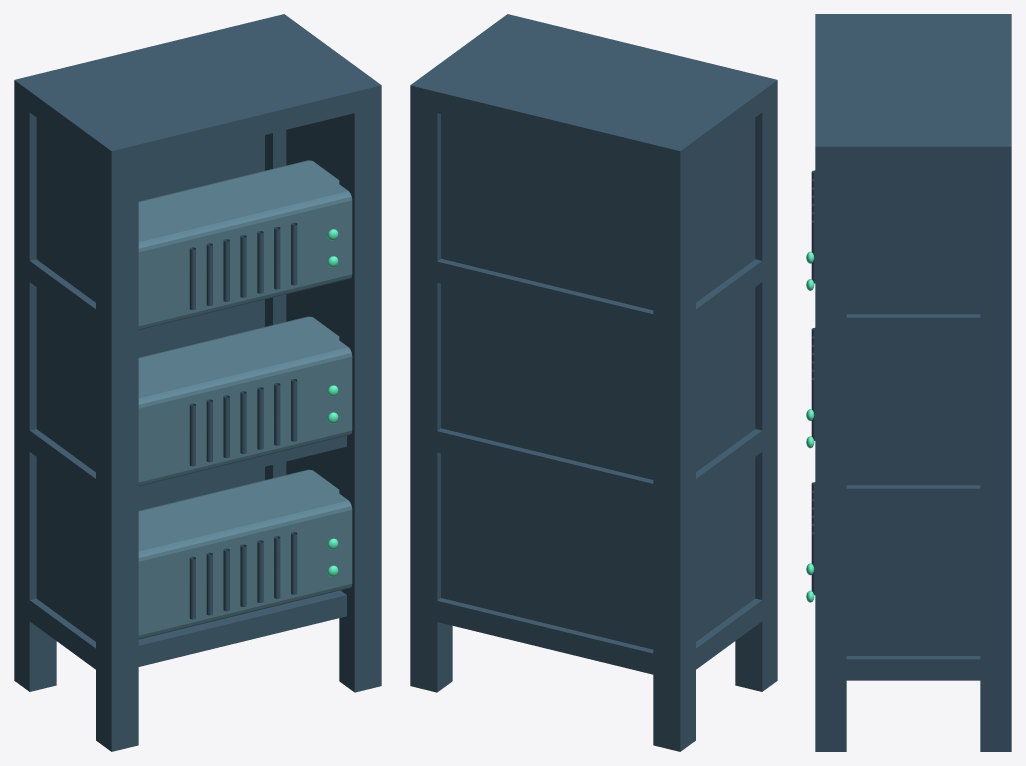
Rendered from server.glb.
3 views of the same model, side by side, from view 1: azimuth 30°, elevation 25°; view 2: azimuth 150°, elevation 25°; view 3: azimuth 270°, elevation 25° (orthographic).
Parts seen in each view (by area): view 1: server_bookcaseClosed(Clone), RackMountedServer.001, RackMountedServer.002, RackMountedServer; view 2: server_bookcaseClosed(Clone); view 3: server_bookcaseClosed(Clone).
Boxes of the visible parts, x1,y1,x2,y2 form: server_bookcaseClosed(Clone): [14, 14, 381, 751]; RackMountedServer.001: [138, 316, 352, 486]; RackMountedServer.002: [138, 160, 352, 329]; RackMountedServer: [138, 469, 352, 639]; server_bookcaseClosed(Clone): [410, 14, 777, 751]; server_bookcaseClosed(Clone): [815, 14, 1011, 751].
Size of the model in its own units: 0.9412 by 2 by 0.6152.
